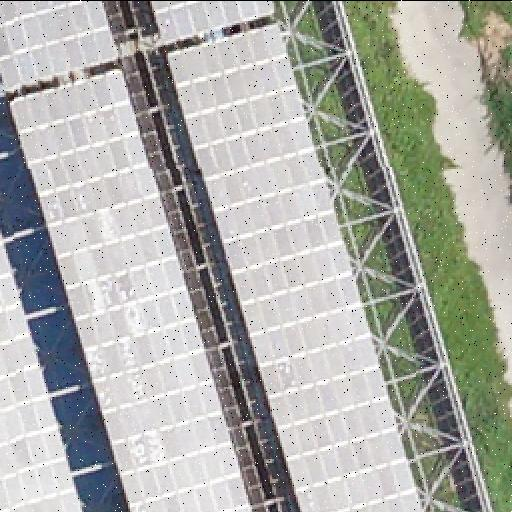solar-panel: (167, 24, 425, 512), (8, 65, 256, 511), (0, 236, 84, 512), (0, 0, 120, 90), (151, 0, 273, 44)
